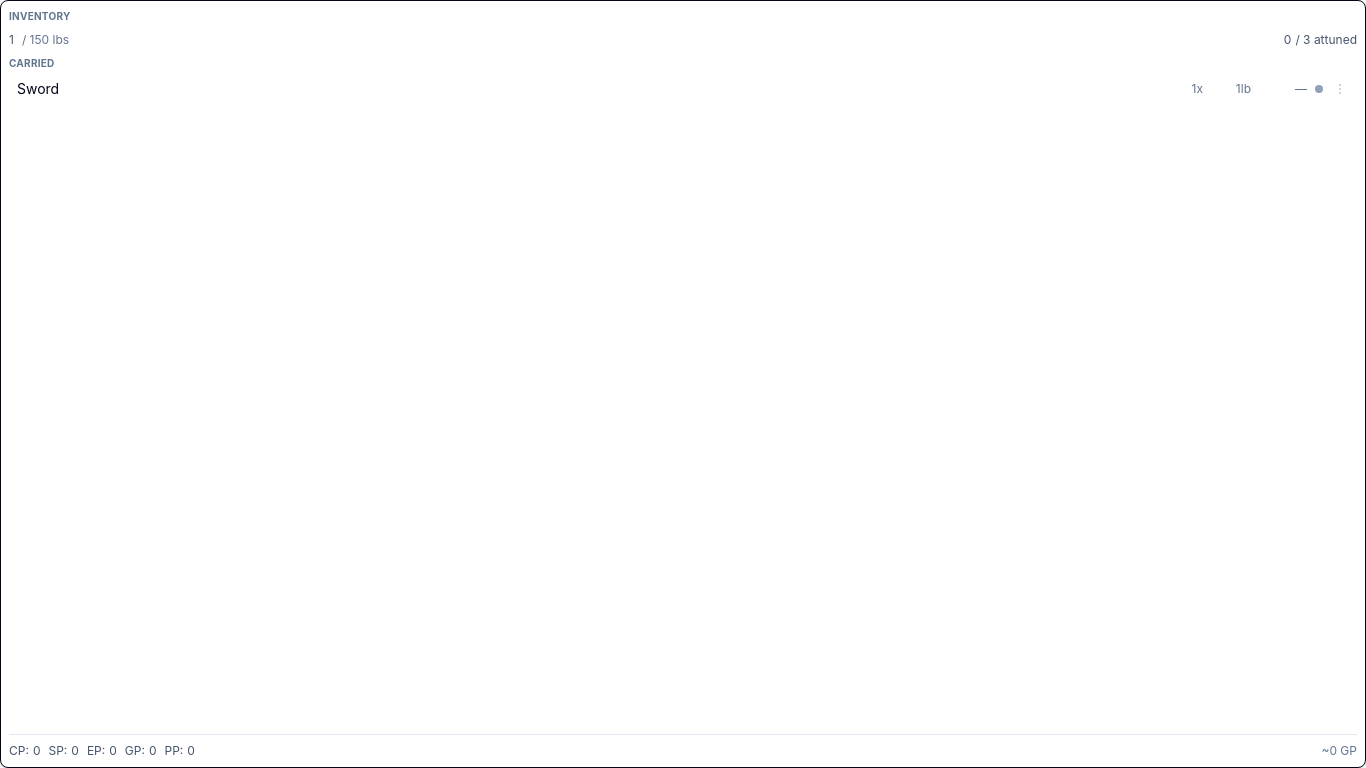
InventoryPanel › kebab menu › clicking Delete opens confirmation dialog with item name
The image size is (1366, 768).
Click the button named "Actions for Sword" at (1340, 89), box [1331, 80, 1349, 98]
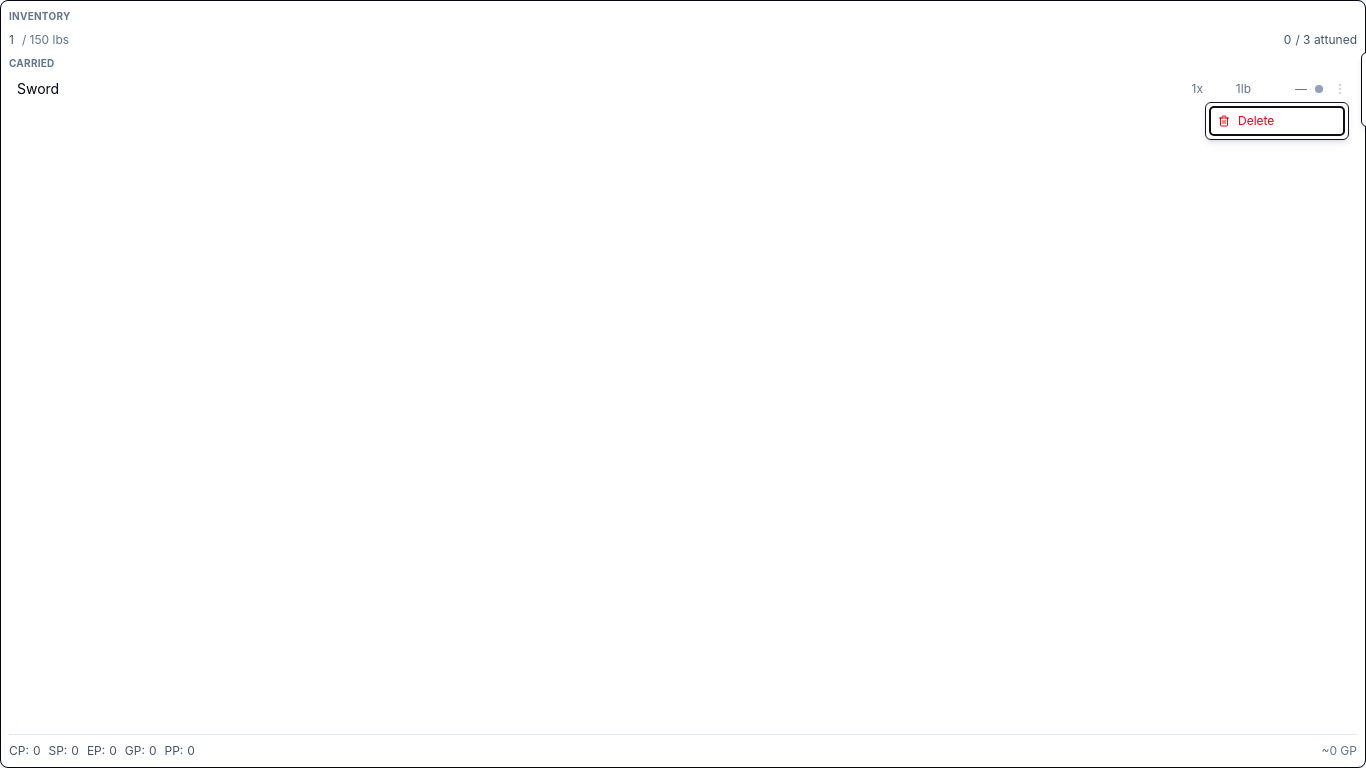
Click the menu item "Delete" at (1277, 121), box [1210, 107, 1344, 135]
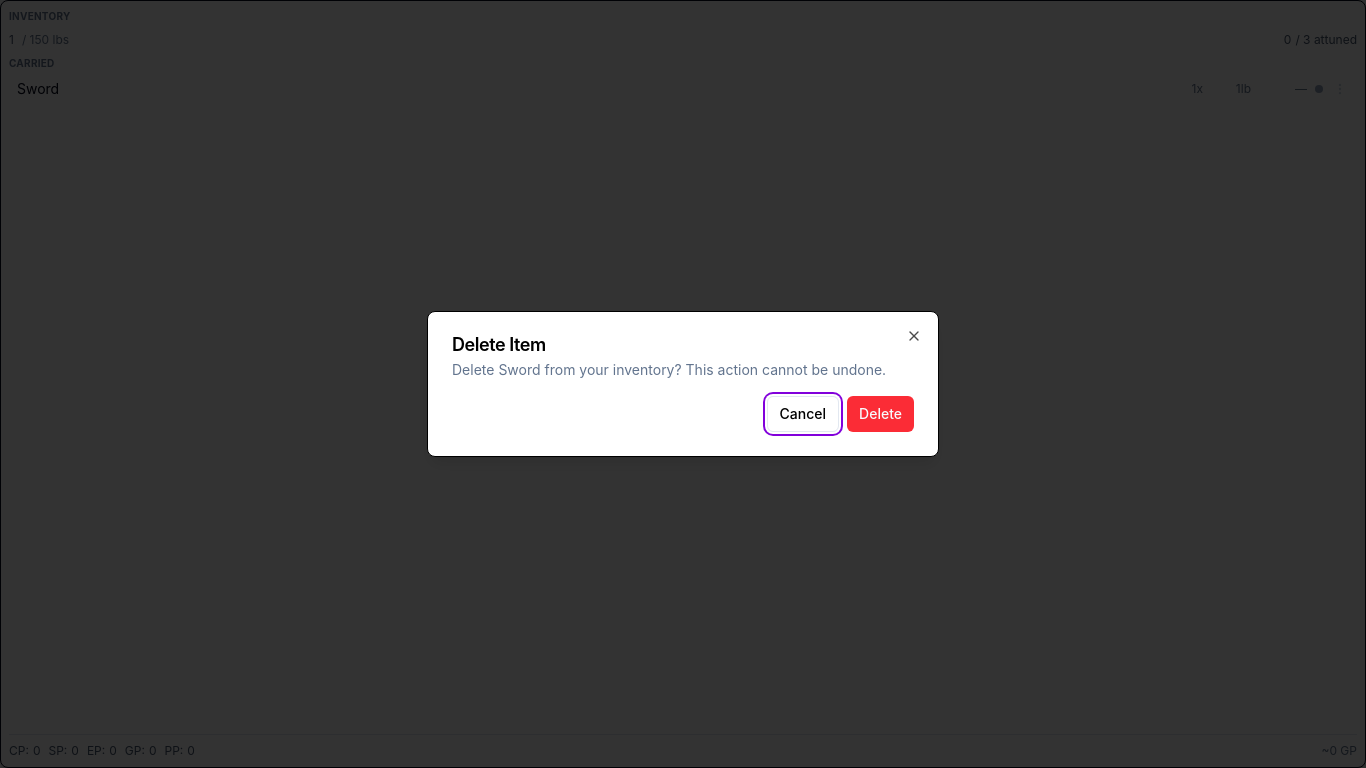
Expected: the dialog is shown, [427, 311, 939, 457]
Expected: the text "Delete Sword from your inventory" is shown, [452, 360, 914, 380]
